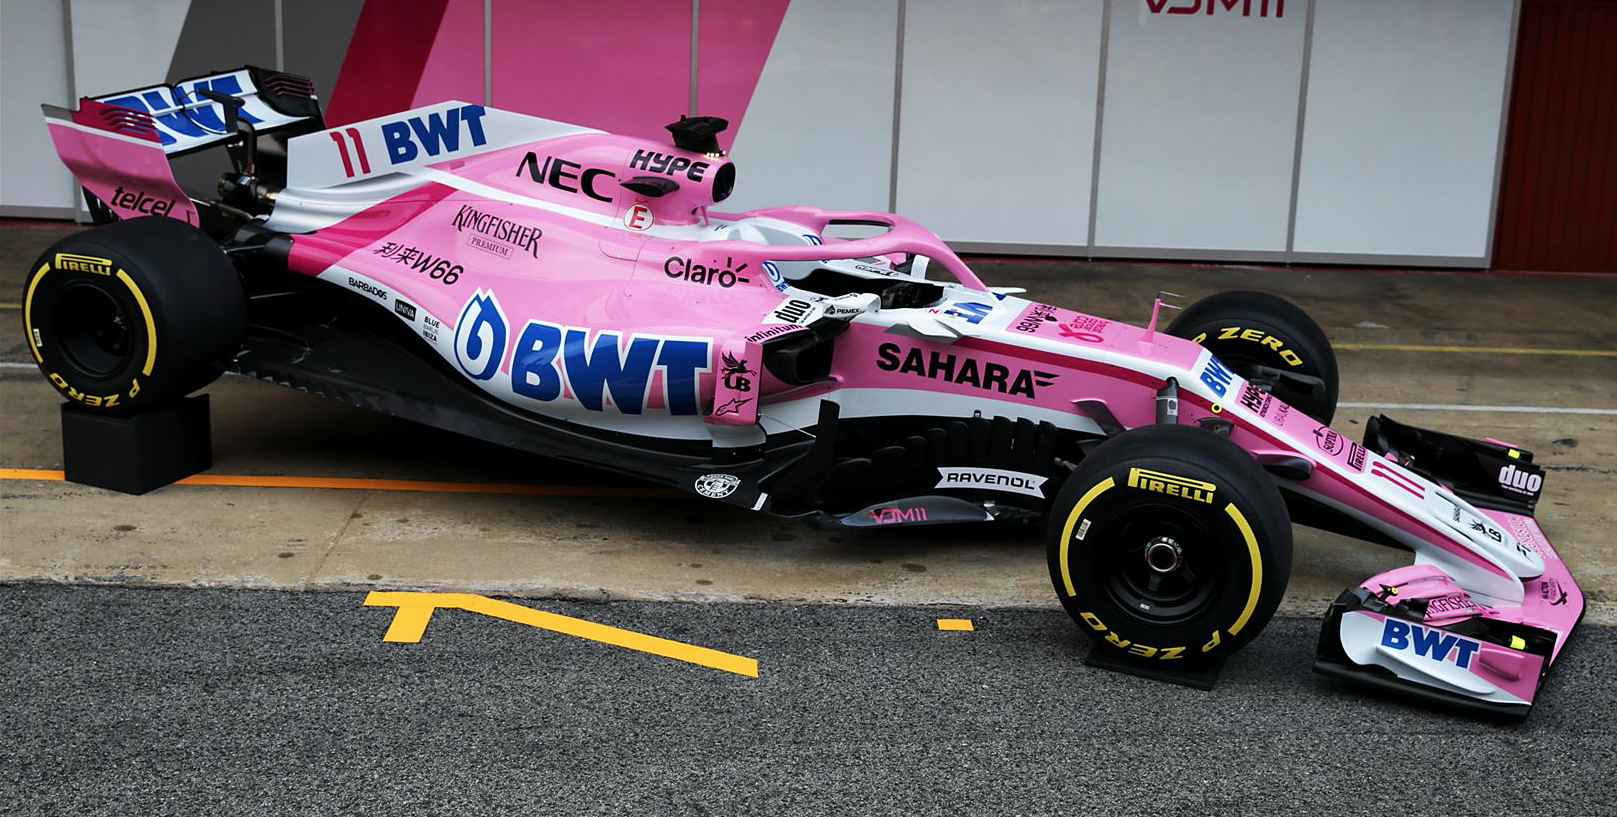f1_car: (9, 46, 1599, 747)
